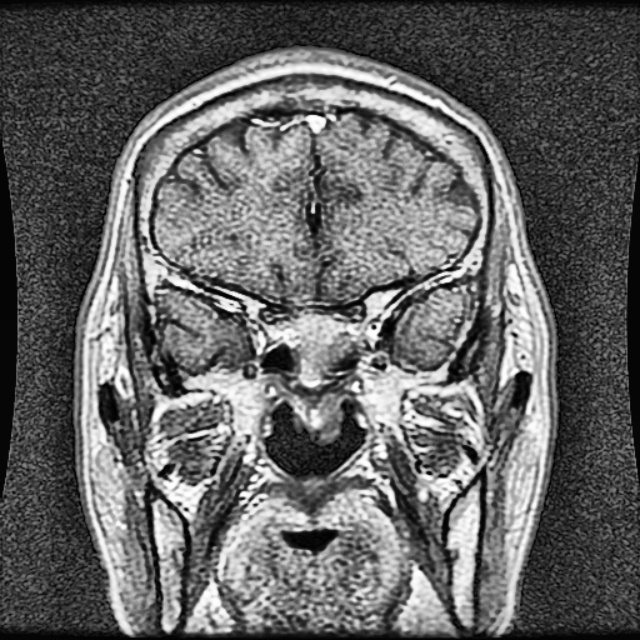Pituitary: (285, 315, 357, 379)
